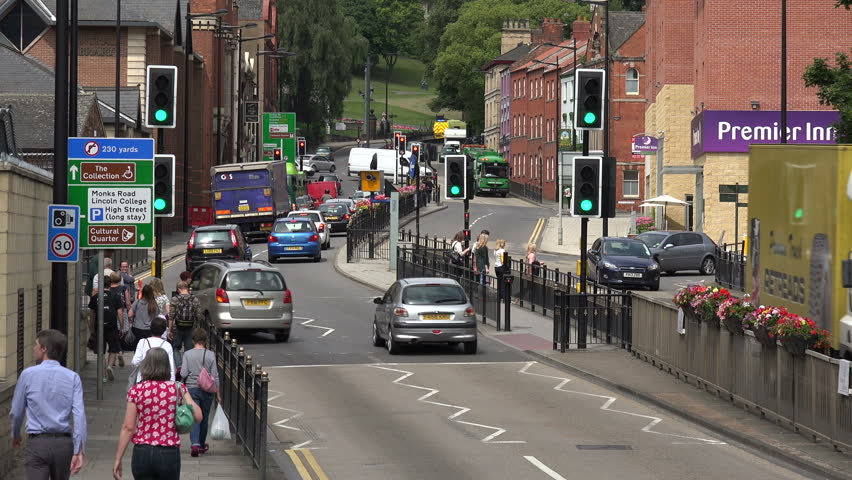go: (146, 64, 176, 127), (575, 68, 604, 130), (573, 157, 601, 217), (152, 155, 173, 216), (444, 155, 466, 199)
stop: (296, 139, 305, 157), (398, 135, 405, 155), (411, 145, 418, 163), (273, 149, 281, 161)
